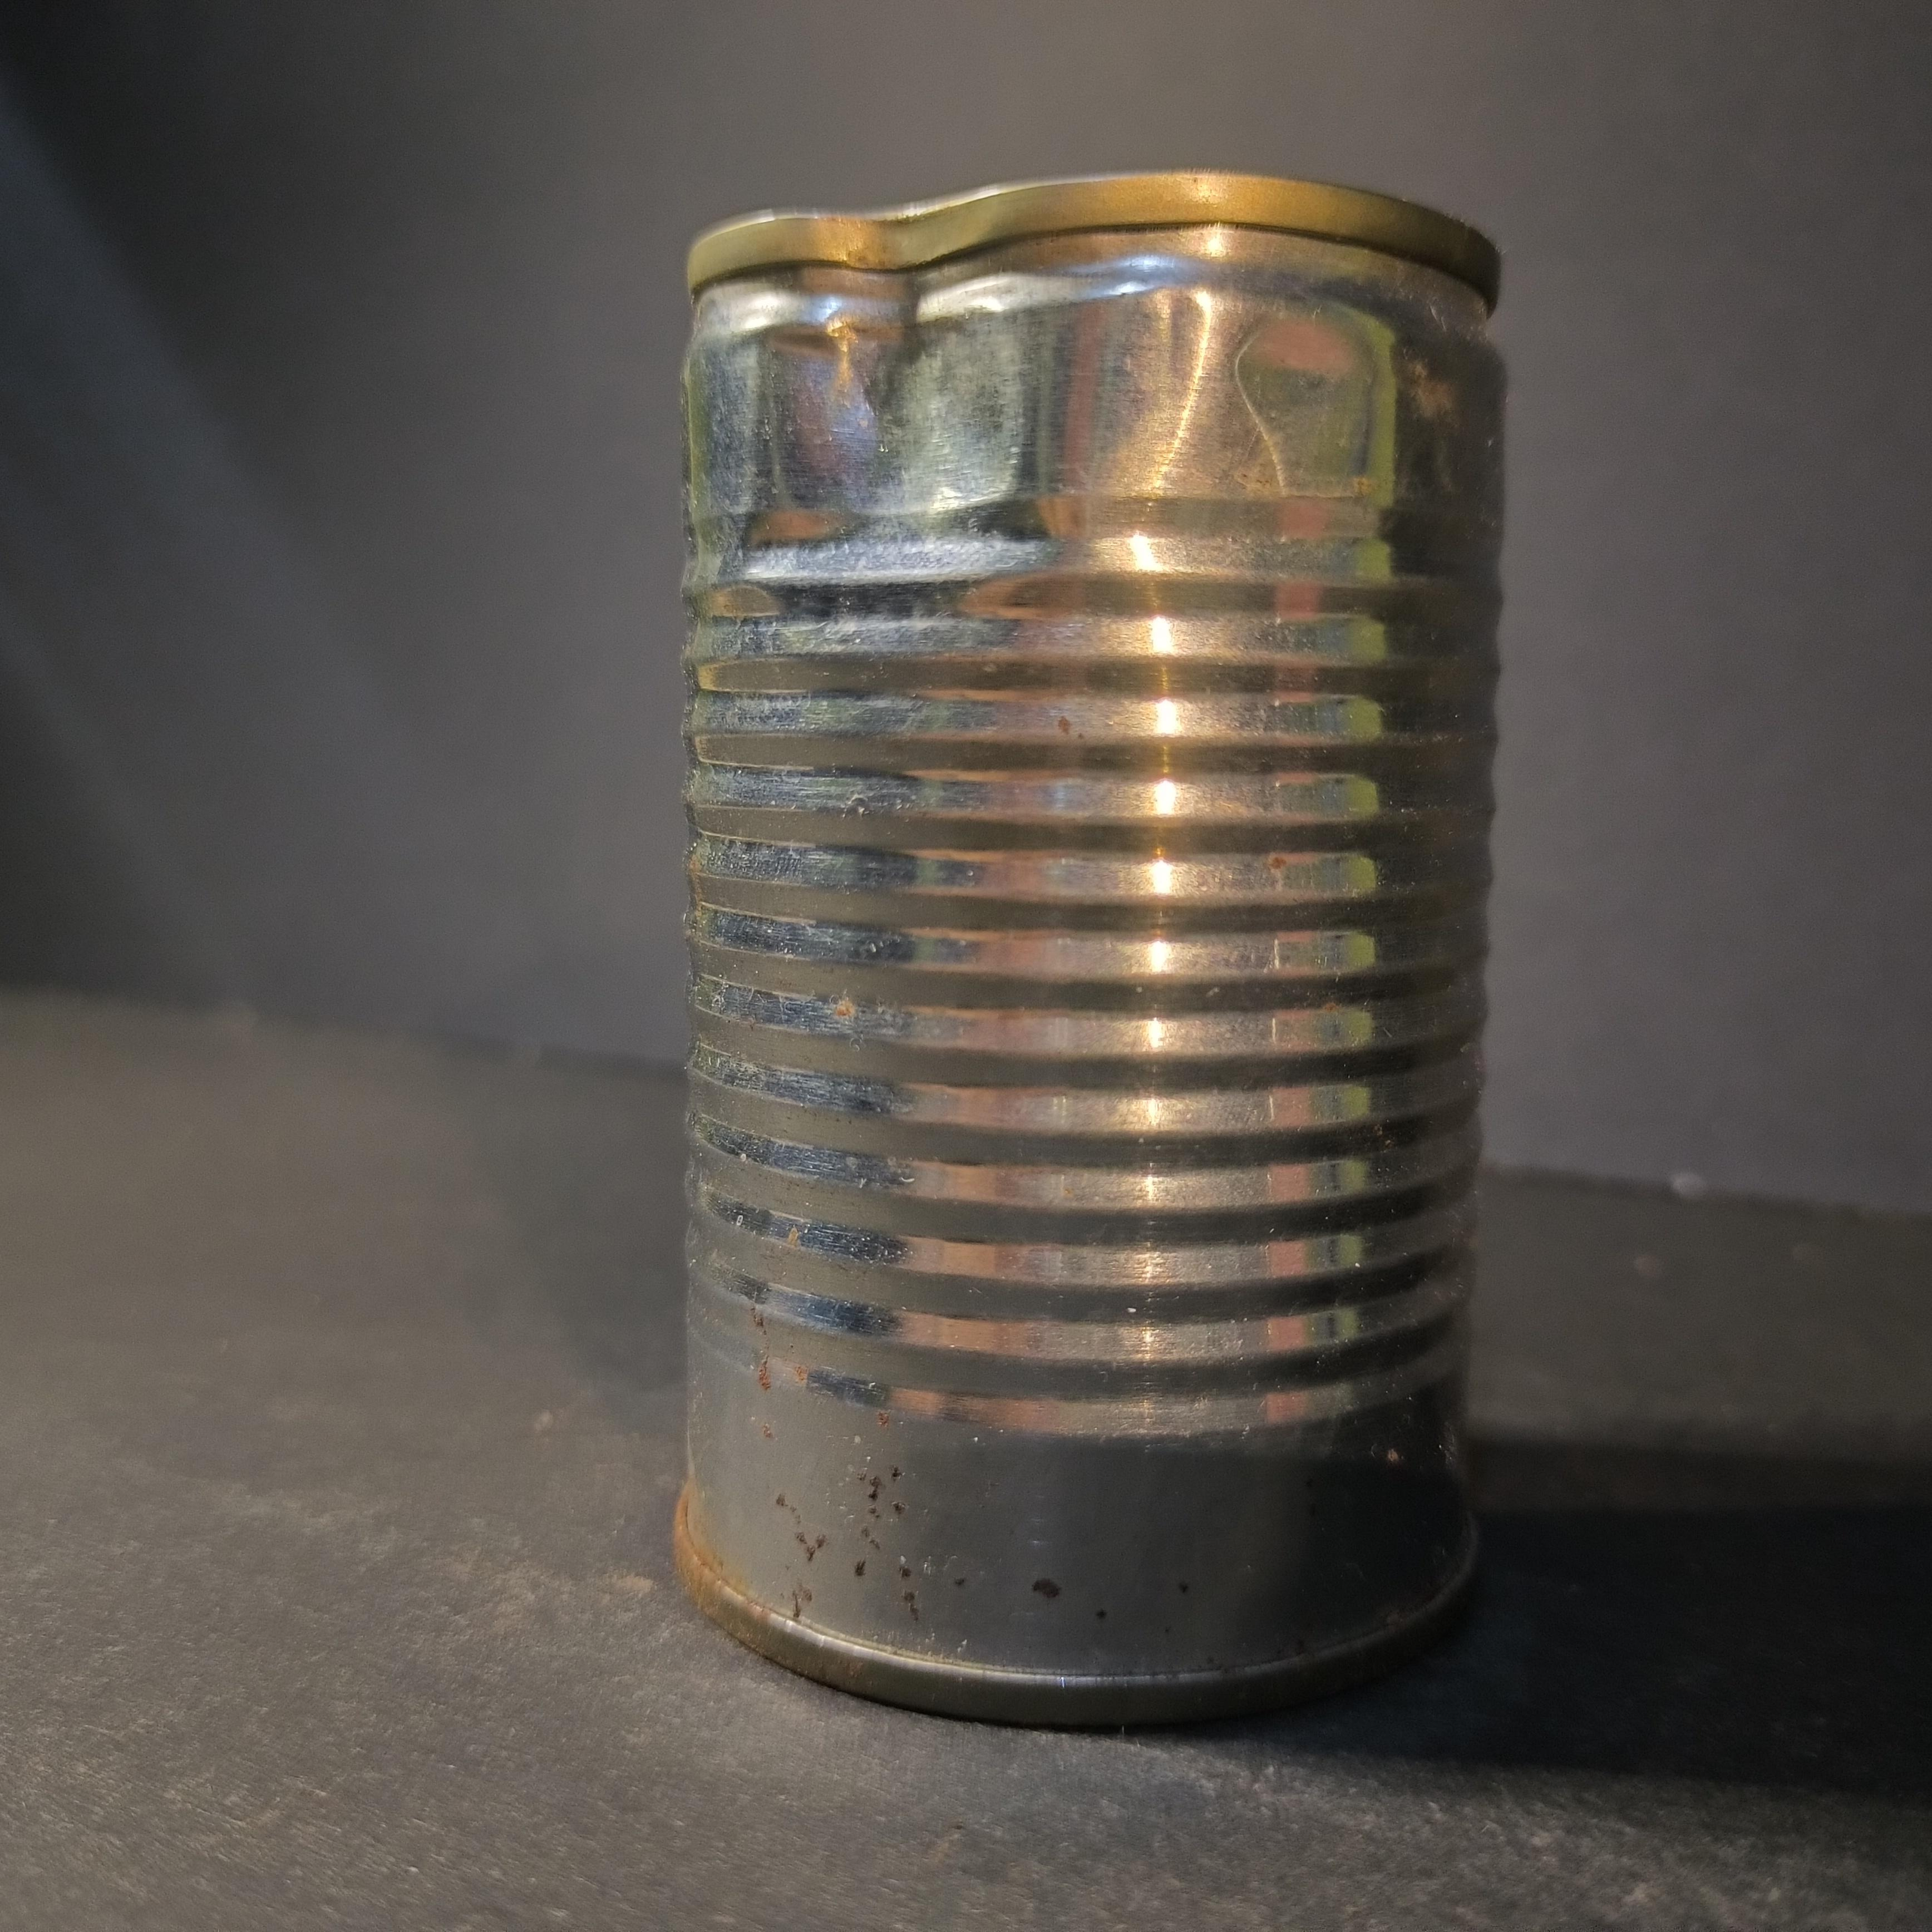Dented: (612, 145, 1527, 1730)
